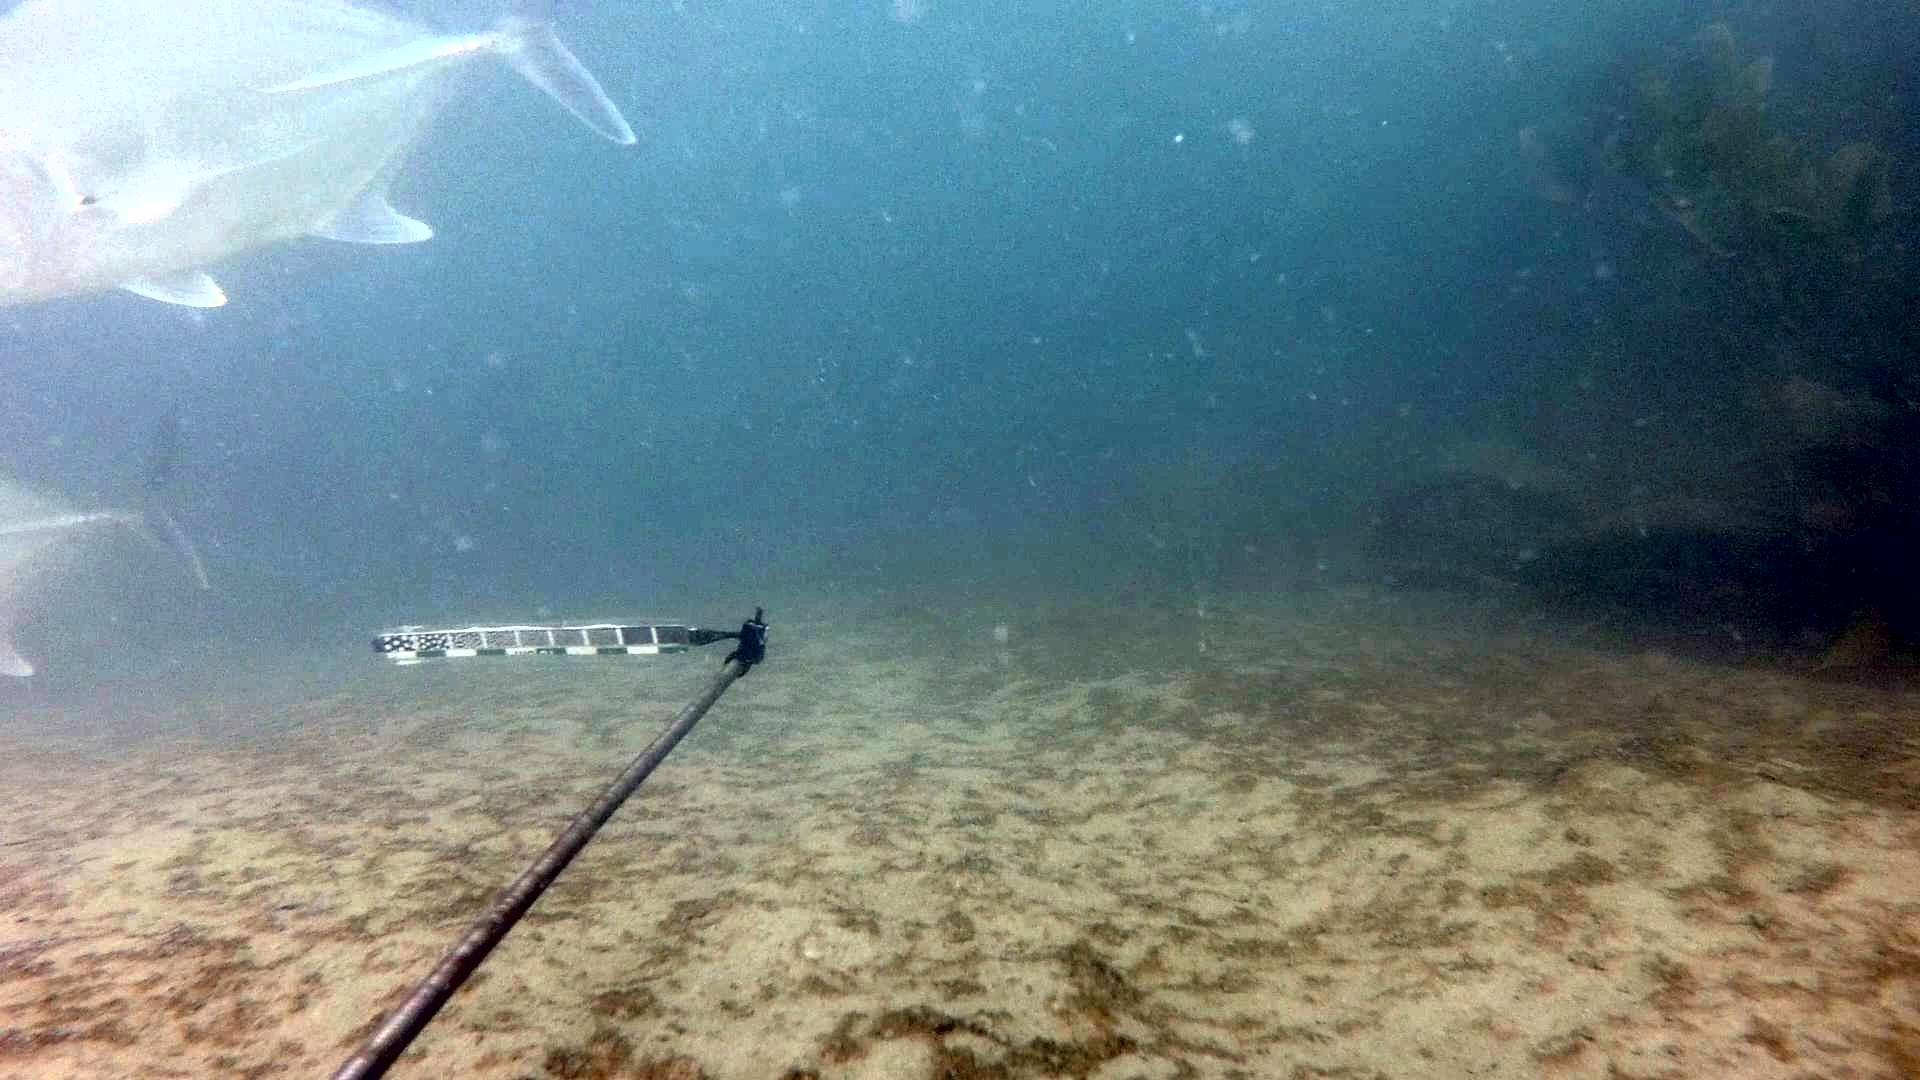caranx: (0, 0, 652, 344), (0, 400, 217, 673)
